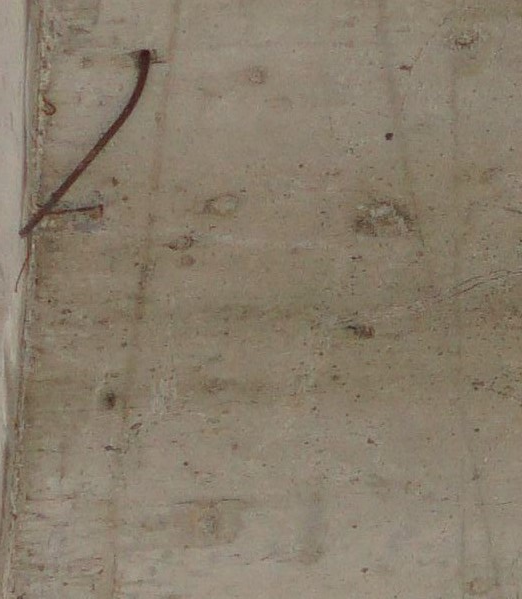Exposed reinforcement: (18, 48, 150, 238)
